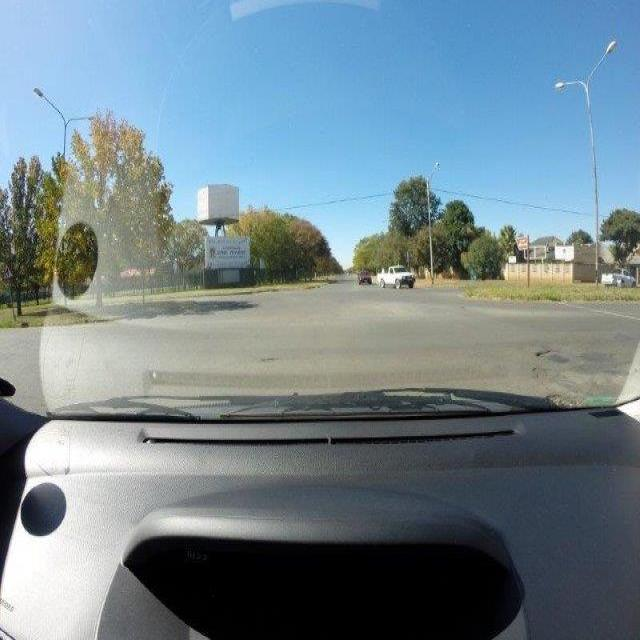lubang: (526, 344, 568, 367), (547, 391, 580, 406), (256, 355, 282, 366)
